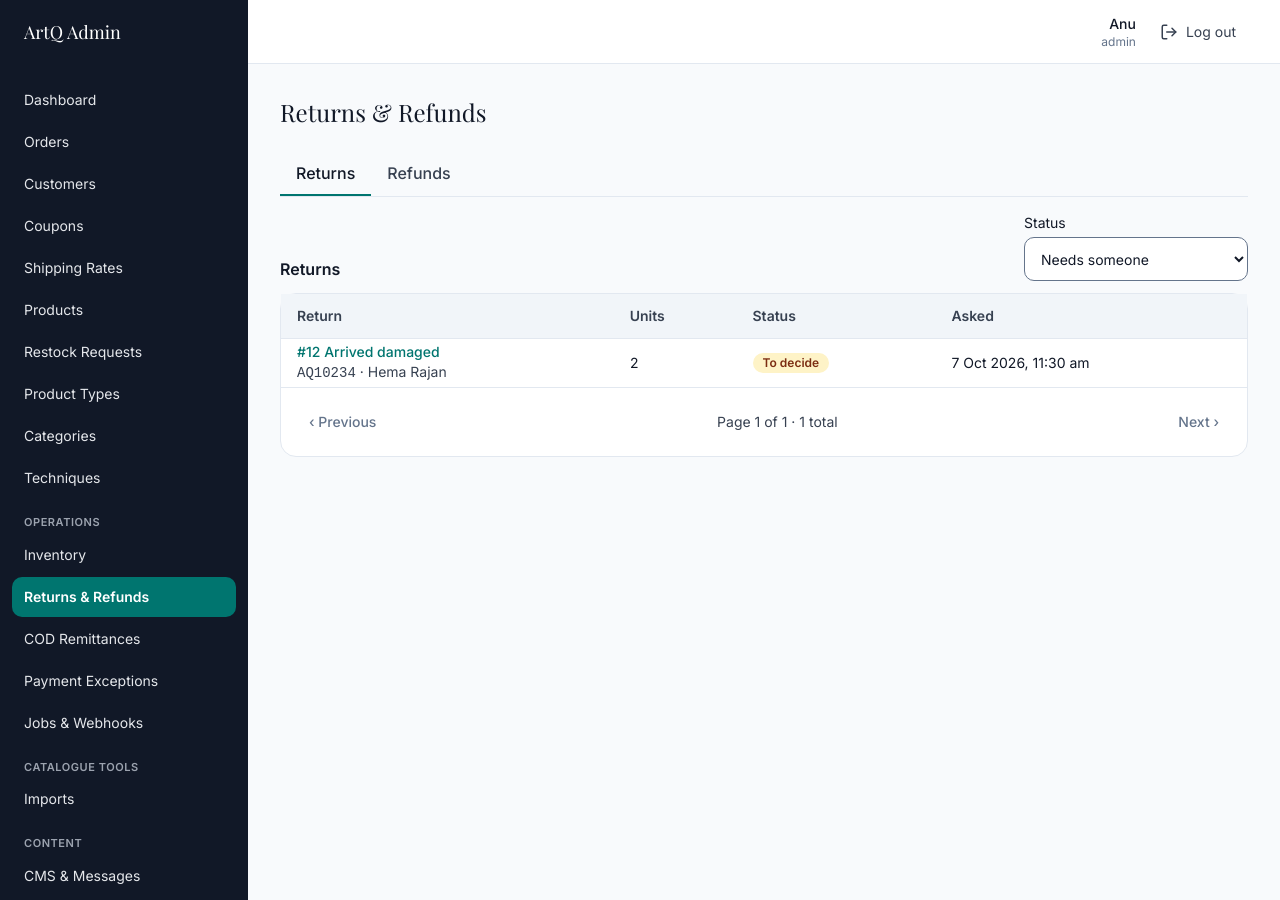
Test: returns queue › shows what needs someone by default; the status filter asks the server; admins switch to the refunds tab
expect the link "#12 Arrived damaged" is shown: met, box [297,343,440,360]
Step 1. Select "Inspected: refund" in the dropdown labelled "Status" → (1136, 259), box [1024,237,1248,281]
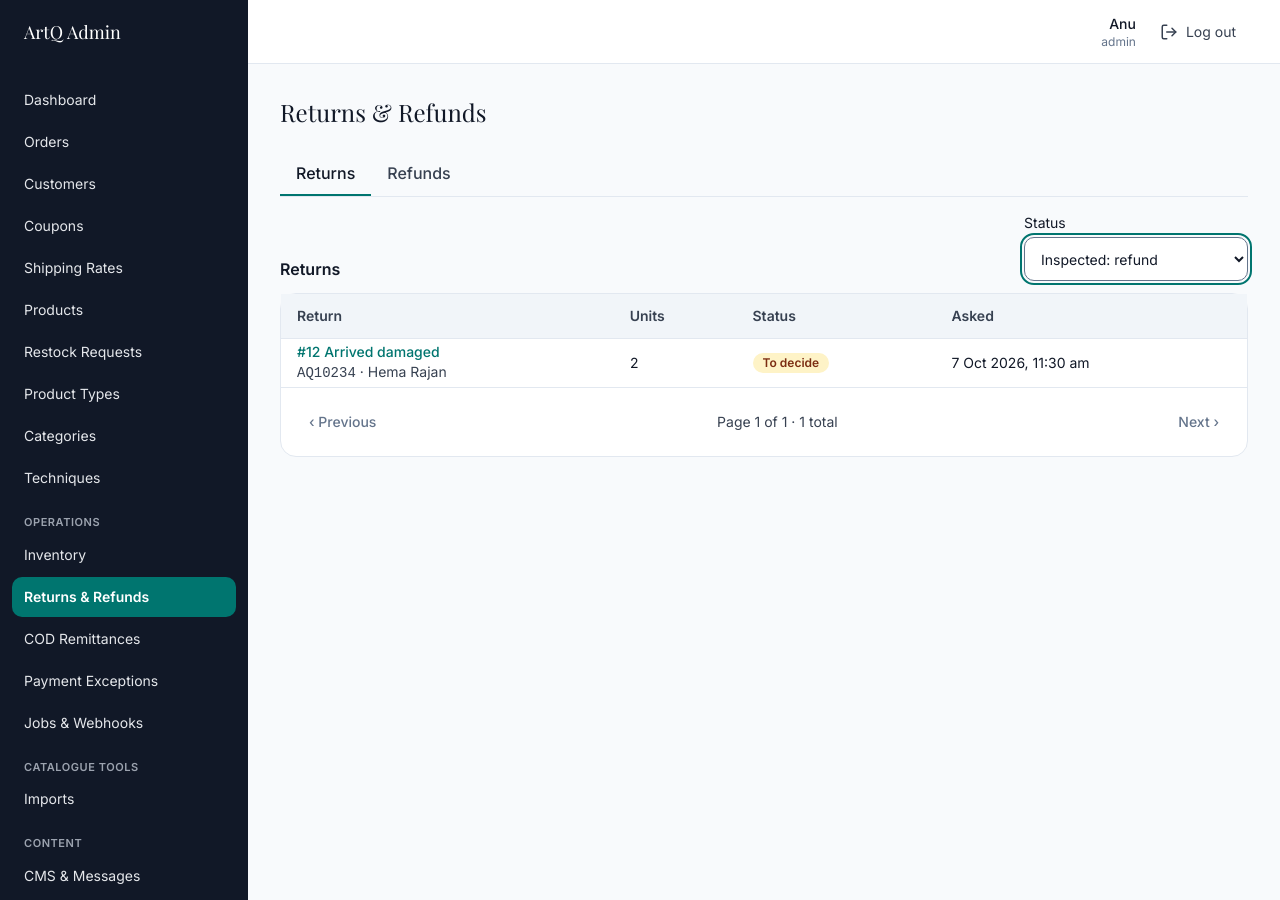
Step 2. Select "All returns" in the dropdown labelled "Status" → (1136, 259), box [1024,237,1248,281]
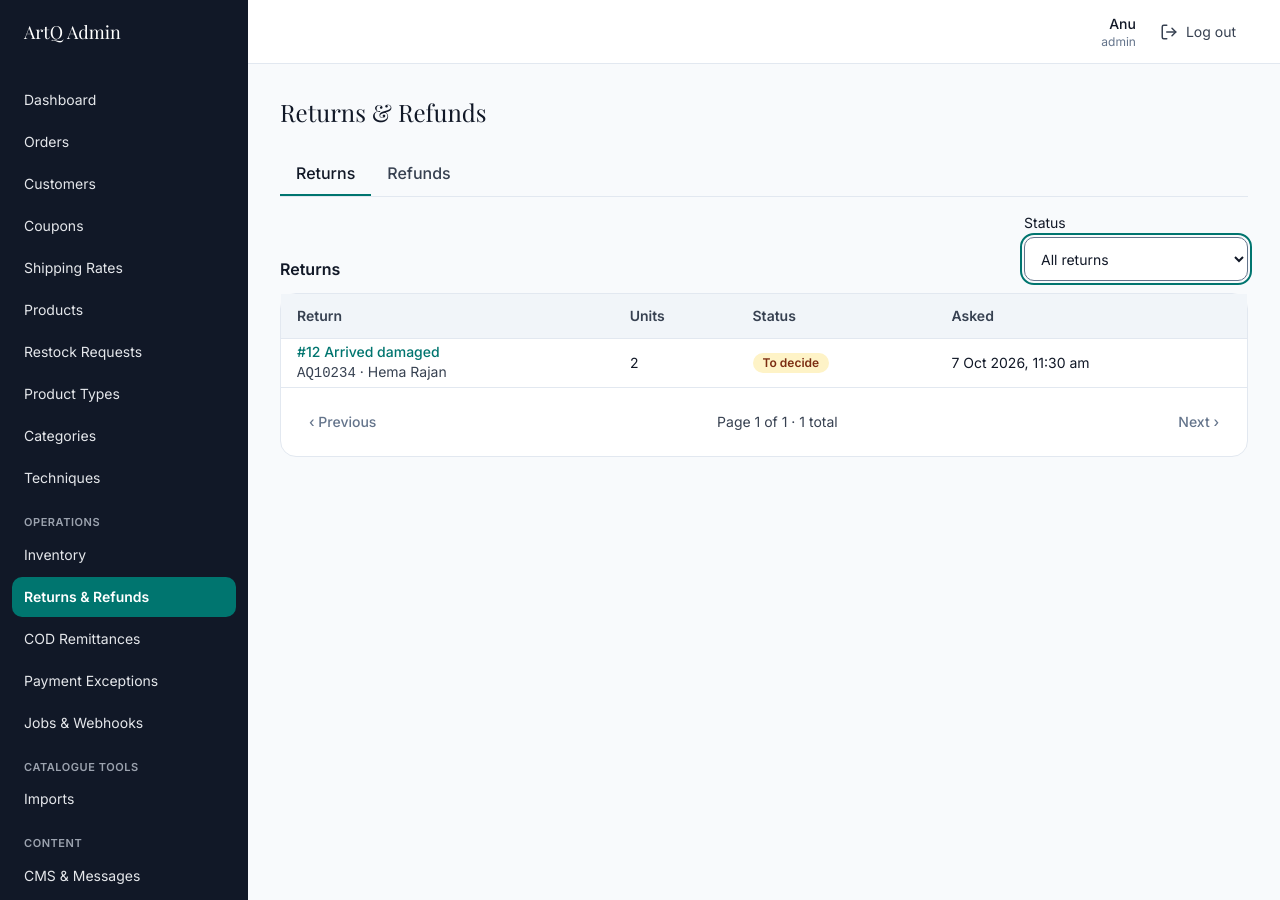
Step 3. Click the tab "Refunds" → (419, 174), box [371,152,467,196]
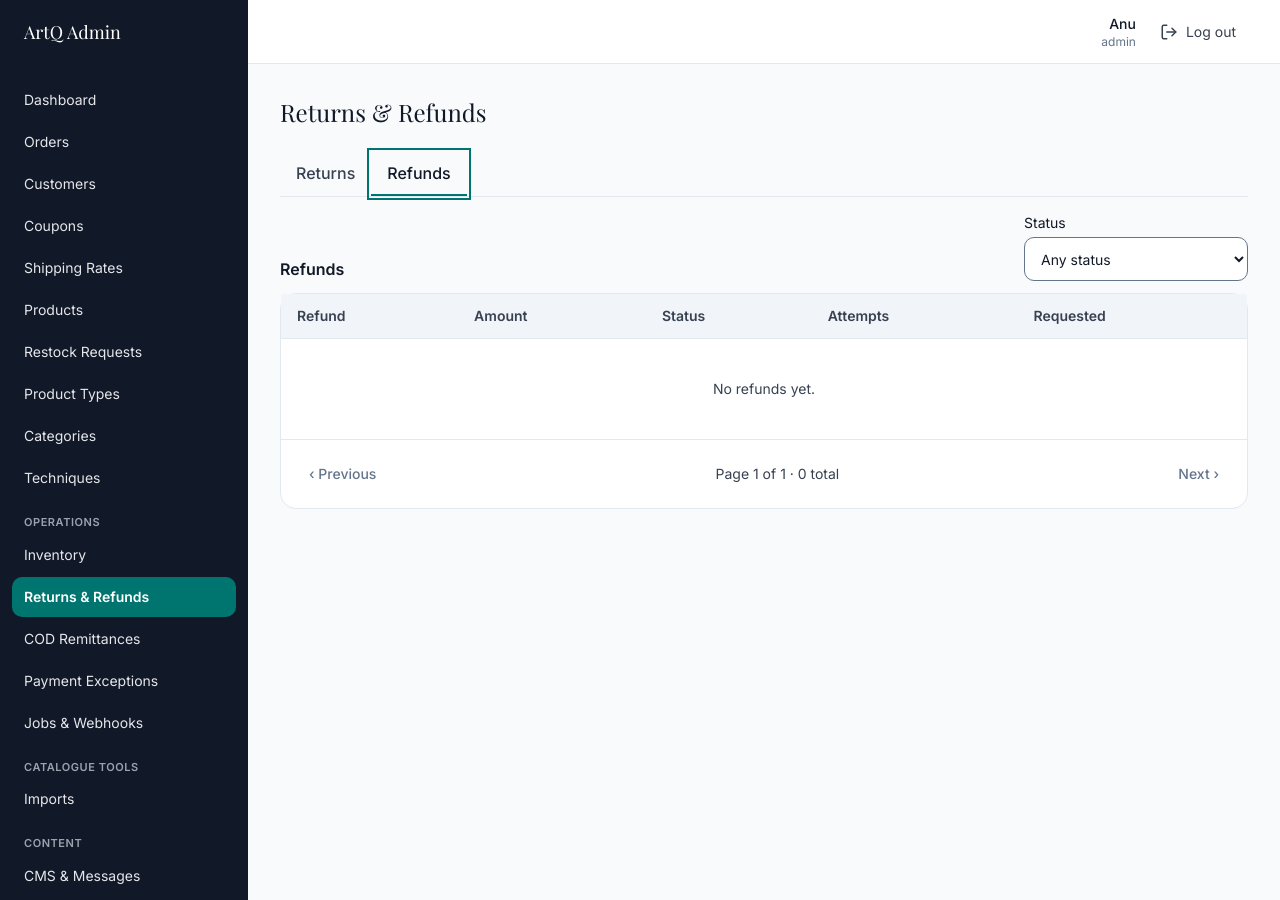
expect the text "No refunds yet." is shown: met, box [713,380,815,397]
